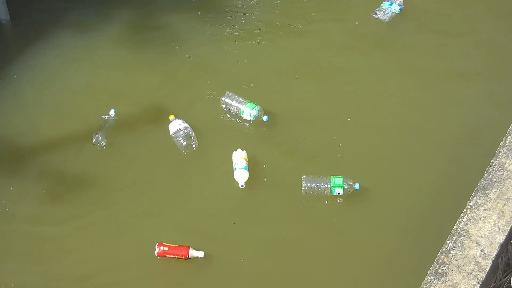plastic: (222, 91, 285, 129), (164, 114, 207, 160), (293, 170, 360, 195), (90, 105, 122, 156), (147, 237, 206, 260), (364, 0, 419, 23), (229, 144, 250, 187)
